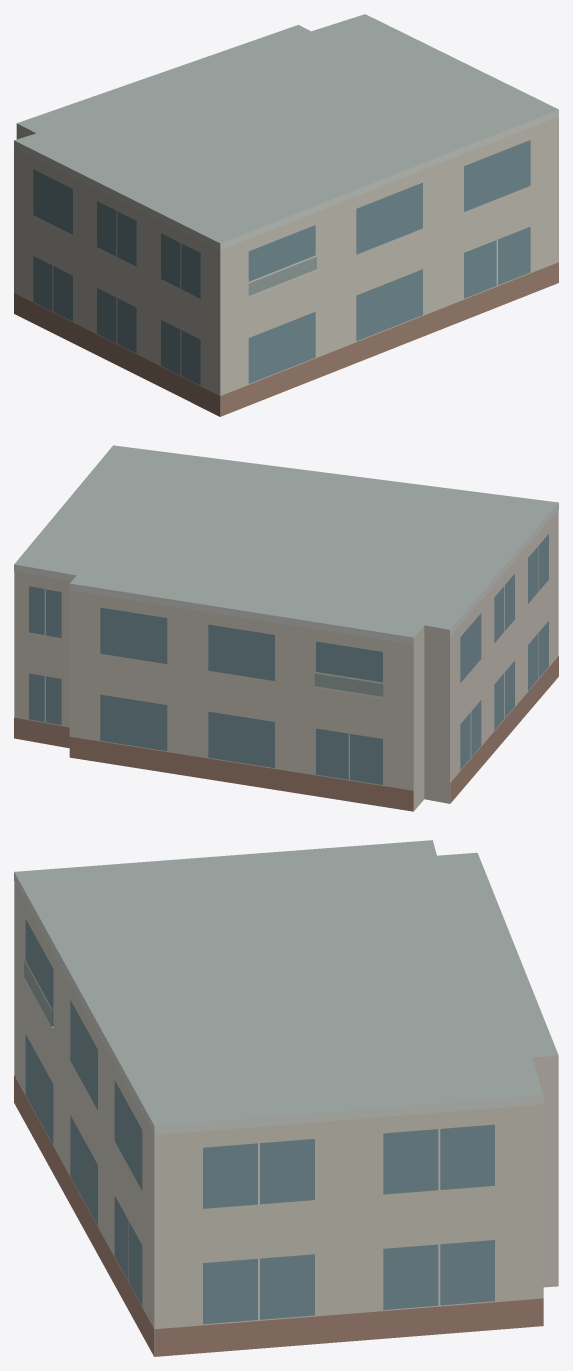
The model's file is survey-upis-32889391.glb.
3 renders of one model, top to bottom at view 1: azimuth 30°, elevation 25°; view 2: azimuth 150°, elevation 25°; view 3: azimuth 270°, elevation 25°, orthographic. The views are drawn at different scales.
Visible parts, largest first — view 1: survey-upis-32889391.tmp; view 2: survey-upis-32889391.tmp; view 3: survey-upis-32889391.tmp.
Boxes of the visible parts, <box> form: survey-upis-32889391.tmp: <box>14,14,558,416</box>; survey-upis-32889391.tmp: <box>14,445,558,811</box>; survey-upis-32889391.tmp: <box>14,840,558,1356</box>.
Size of the model in its own units: 16.22 by 6.1 by 13.05.
